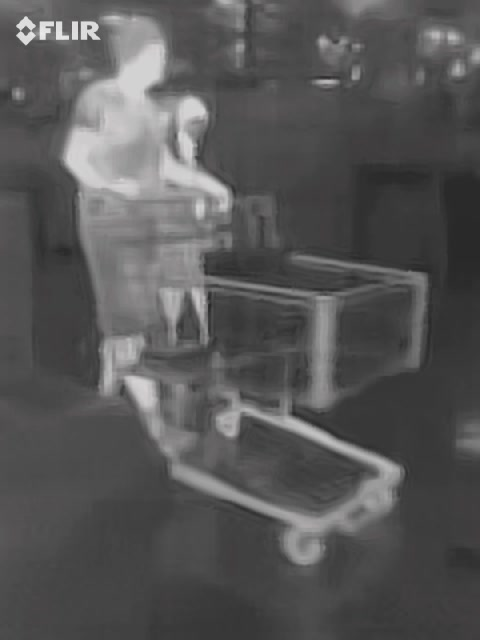head: (112, 18, 167, 90)
